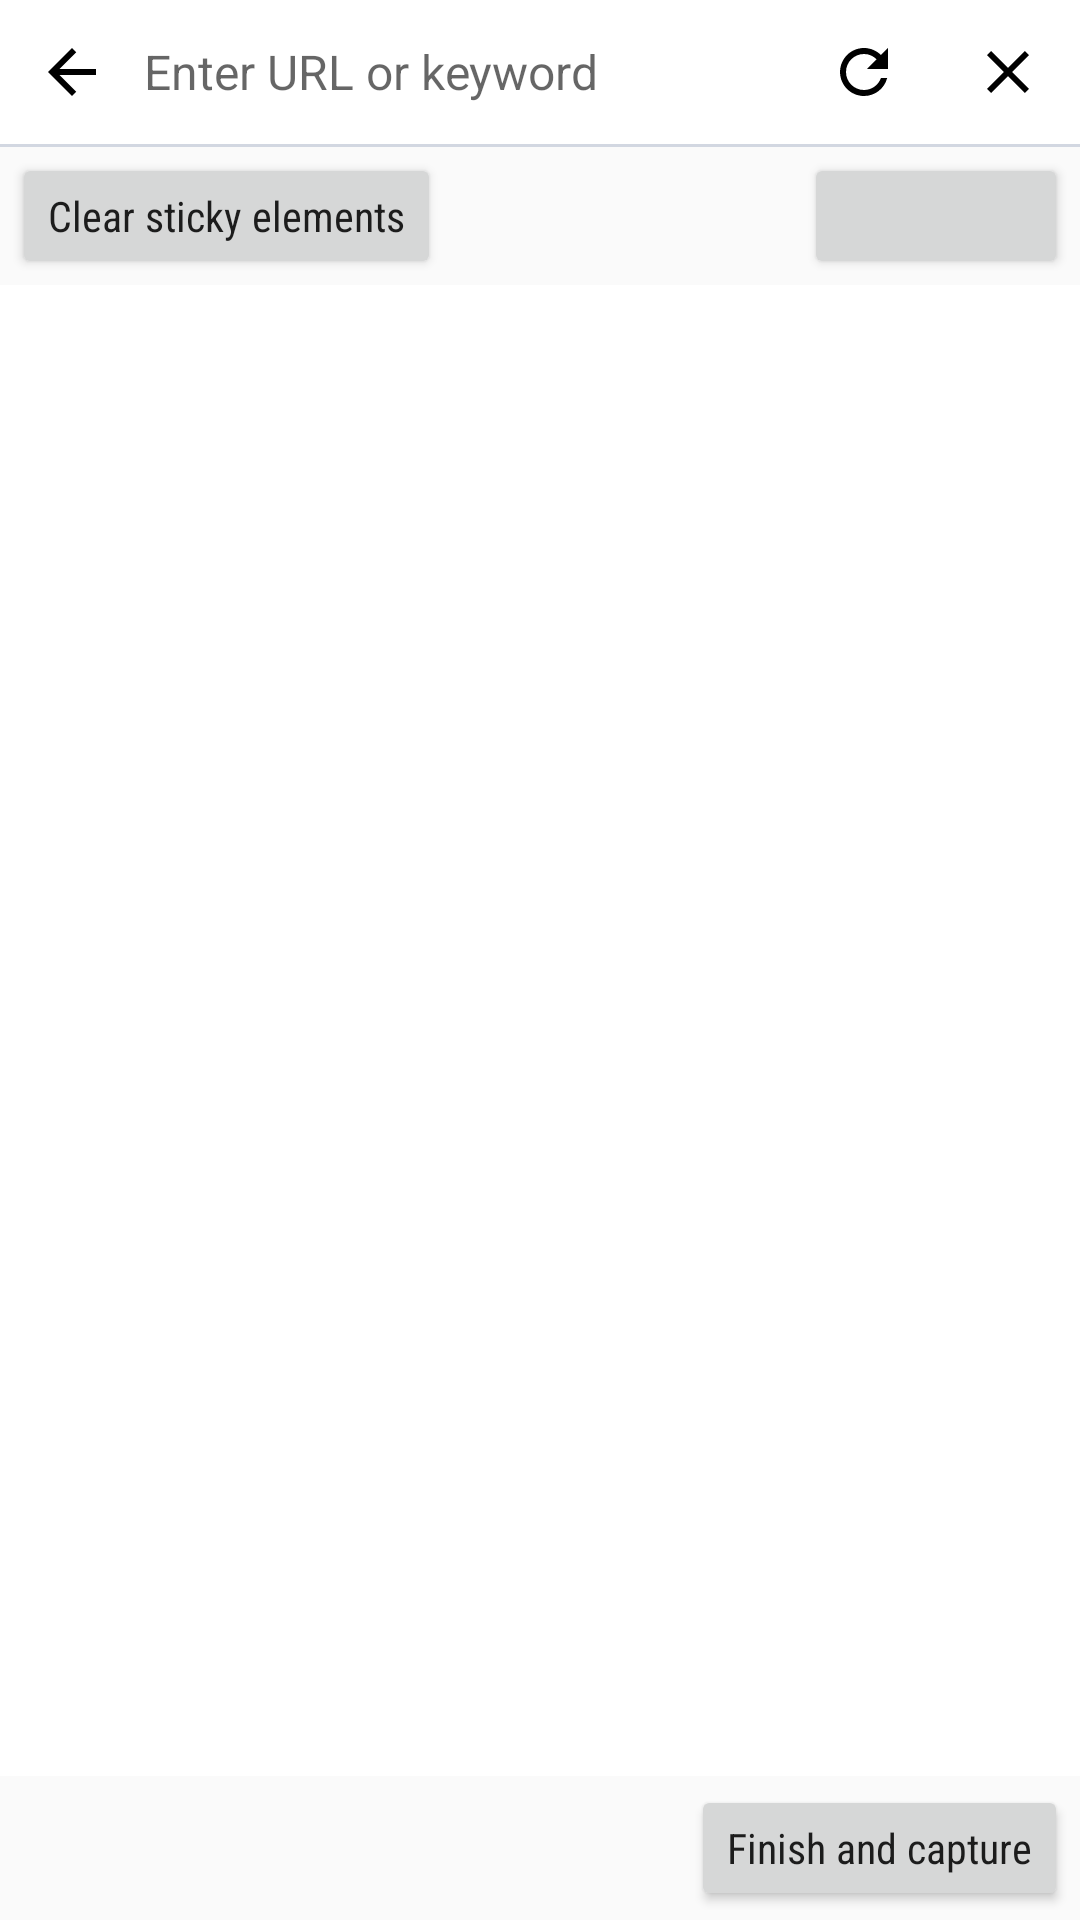

Named icons in this screenshot (1080 x 1920) and their centers, [x,y]:
Back: [72,72]
Clear: [1008,72]
Refresh: [864,72]
